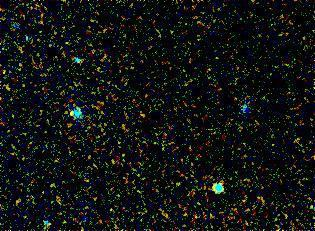star: (58, 99, 88, 129)
